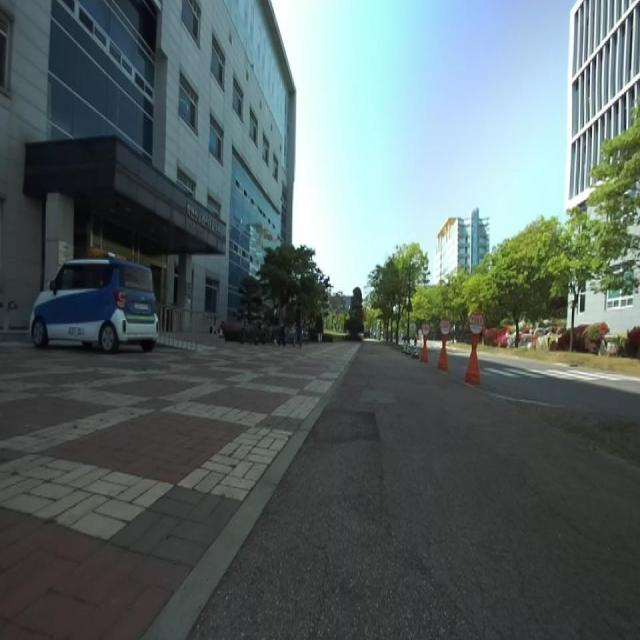sidewalk: (191, 342, 640, 639)
